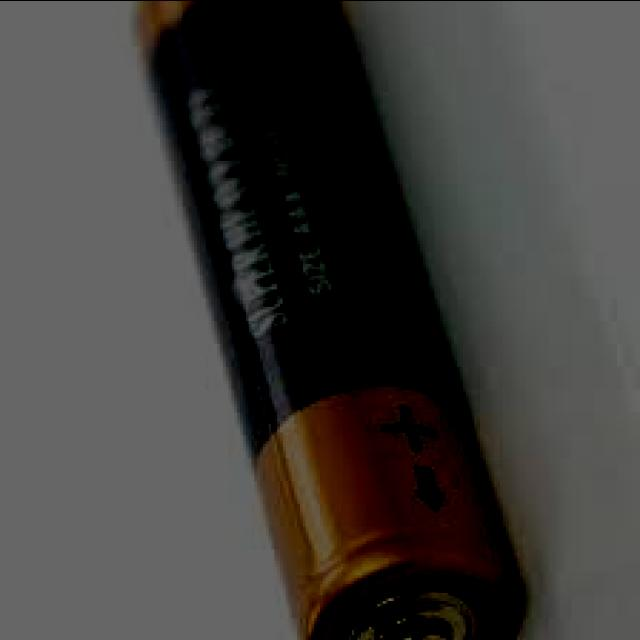AAA: (126, 3, 520, 640)
